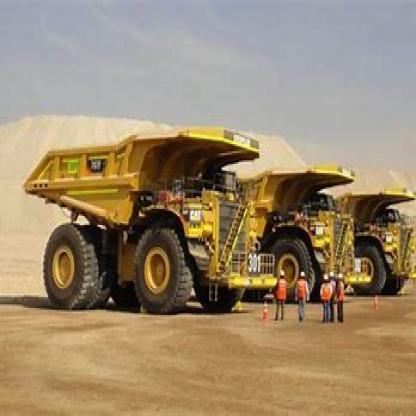dump_truck: (26, 126, 276, 317), (277, 146, 359, 311), (360, 168, 415, 306)
